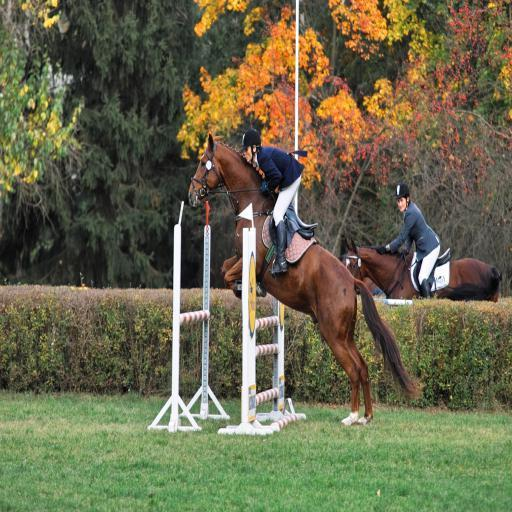horse: (188, 132, 425, 428), (338, 240, 504, 300)
